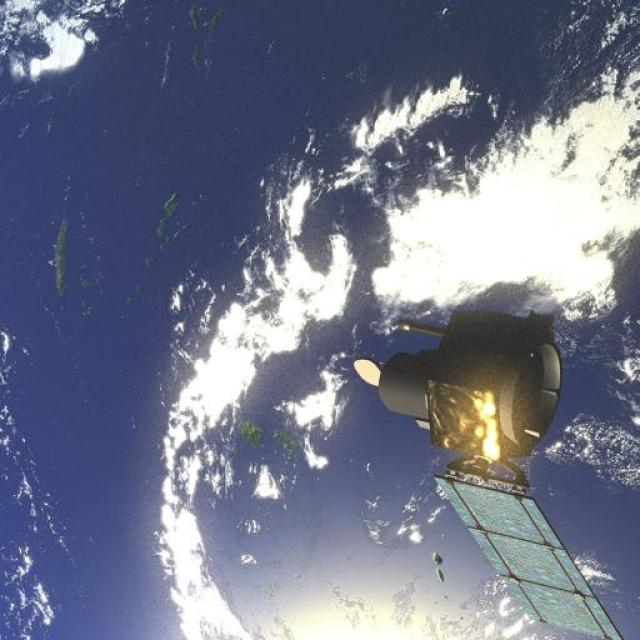earth_observation_sat_1: (352, 294, 594, 526)
